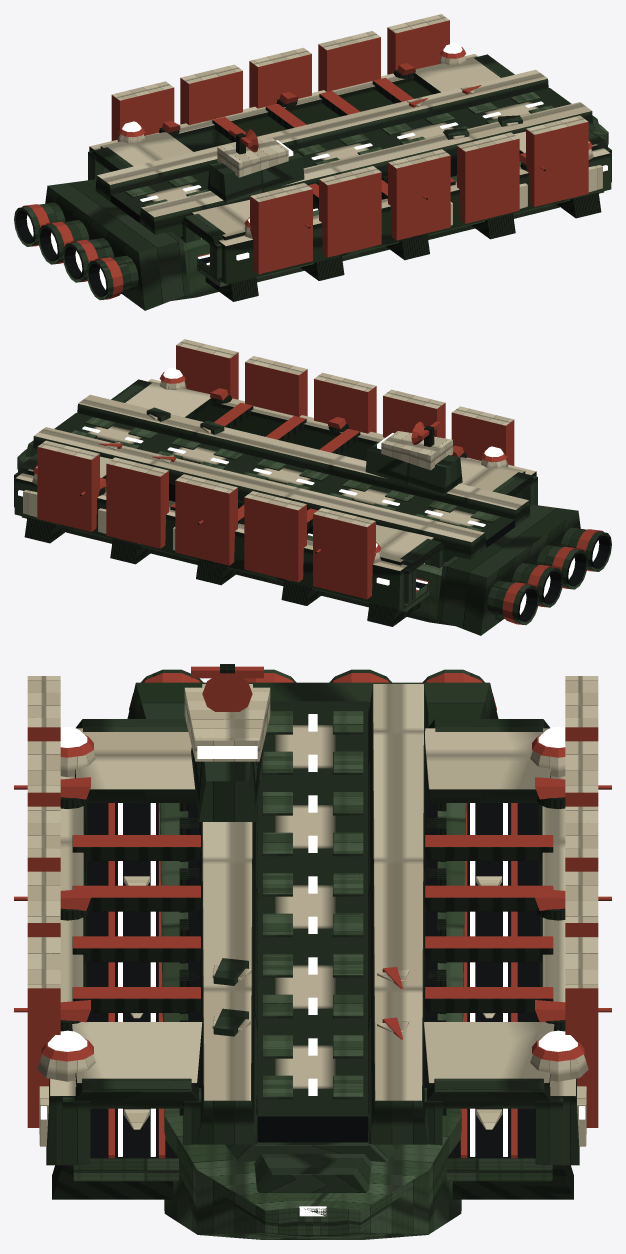
The model's file is carrier.glb.
3 renders of one model, top to bottom at view 1: azimuth 30°, elevation 25°; view 2: azimuth 150°, elevation 25°; view 3: azimuth 270°, elevation 25°, orthographic. The views are drawn at different scales.
Visible parts, largest first — view 1: hull_body, engine_block, sensor_island, shield_domes, weapon_turrets; view 2: hull_body, engine_block, sensor_island, shield_domes, weapon_turrets; view 3: hull_body, sensor_island, engine_block, shield_domes, weapon_turrets.
Boxes of the visible parts, x1=… form: hull_body: x1=88, y1=14, x2=611, y2=301; engine_block: x1=14, y1=179, x2=188, y2=310; sensor_island: x1=207, y1=128, x2=304, y2=203; shield_domes: x1=117, y1=42, x2=593, y2=238; weapon_turrets: x1=159, y1=63, x2=545, y2=228; hull_body: x1=14, y1=339, x2=537, y2=626; engine_block: x1=437, y1=504, x2=611, y2=635; sensor_island: x1=365, y1=421, x2=462, y2=495; shield_domes: x1=32, y1=367, x2=508, y2=563; weapon_turrets: x1=80, y1=388, x2=466, y2=553; hull_body: x1=27, y1=676, x2=598, y2=1239; sensor_island: x1=184, y1=664, x2=270, y2=821; engine_block: x1=127, y1=669, x2=498, y2=725; shield_domes: x1=37, y1=727, x2=588, y2=1081; weapon_turrets: x1=14, y1=777, x2=611, y2=1031.
Bounding box in the file's own units: 55 × 13.7 × 27.45.
1 material, 1 textured.
